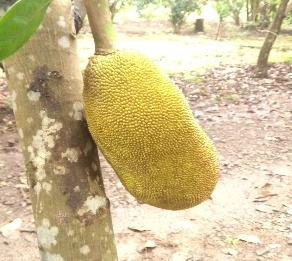Mit: (81, 51, 220, 207)
